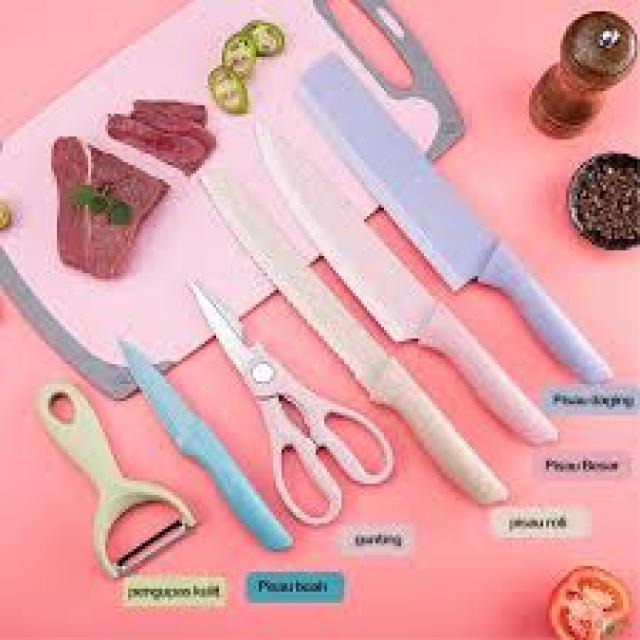Knife: (152, 75, 590, 521)
